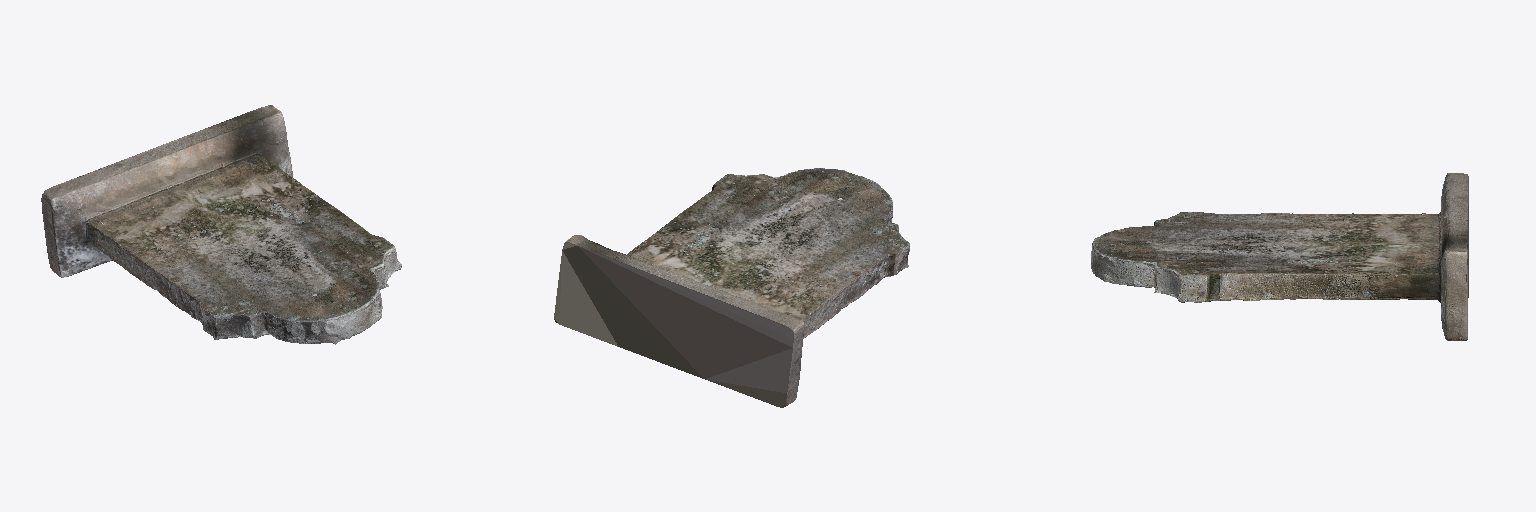
The picture shows the model from 3 angles: view 1: azimuth 30°, elevation 25°; view 2: azimuth 150°, elevation 25°; view 3: azimuth 270°, elevation 25°; orthographic projection.
Parts seen in each view (by area): view 1: Group_Global; view 2: Group_Global; view 3: Group_Global.
Part boxes in pixels (bbox=[...]): Group_Global: bbox=[41, 105, 401, 344]; Group_Global: bbox=[554, 168, 909, 407]; Group_Global: bbox=[1091, 173, 1468, 340].
Bounding box in the file's own units: 6.3 × 2.84 × 8.53.
4 materials, 4 textured.